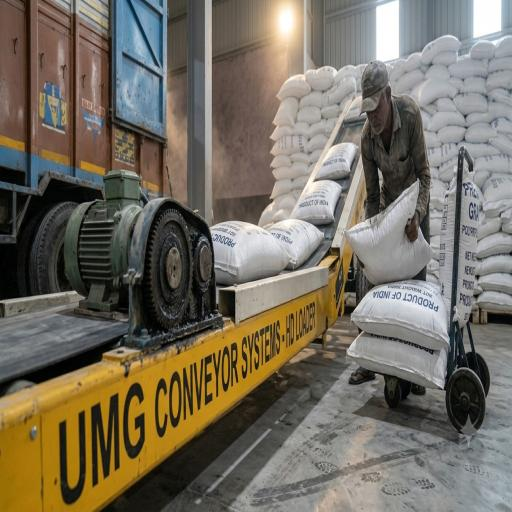c-belt-sack-count: (211, 221, 291, 284), (268, 220, 323, 270), (292, 180, 341, 225), (316, 142, 357, 180)
